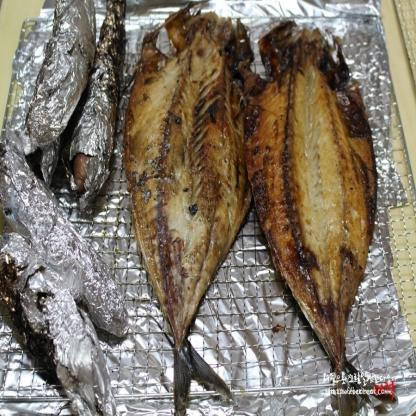Peixe: (125, 0, 271, 416), (243, 0, 382, 415)
